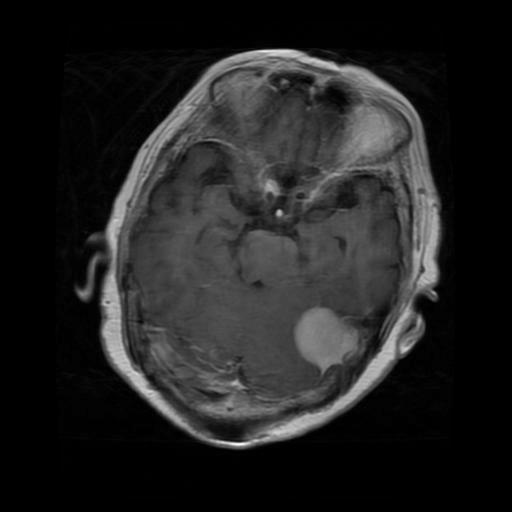Tumour-Pituitary: (275, 296, 382, 393)
